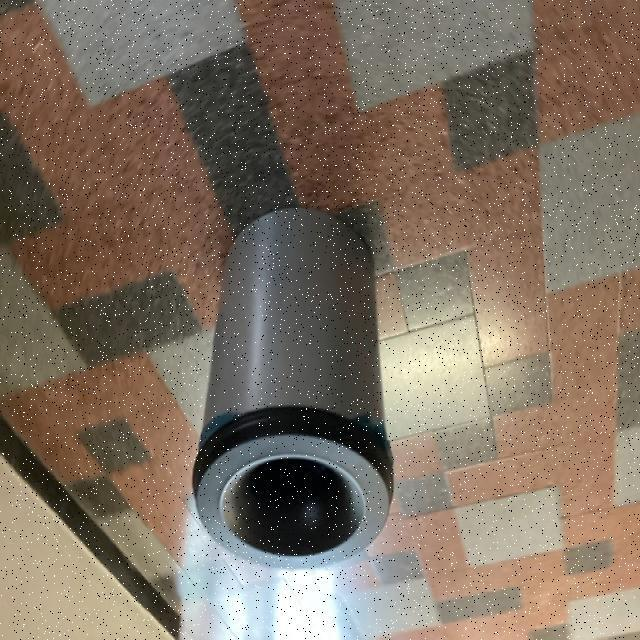garbage container: (173, 195, 401, 588)
